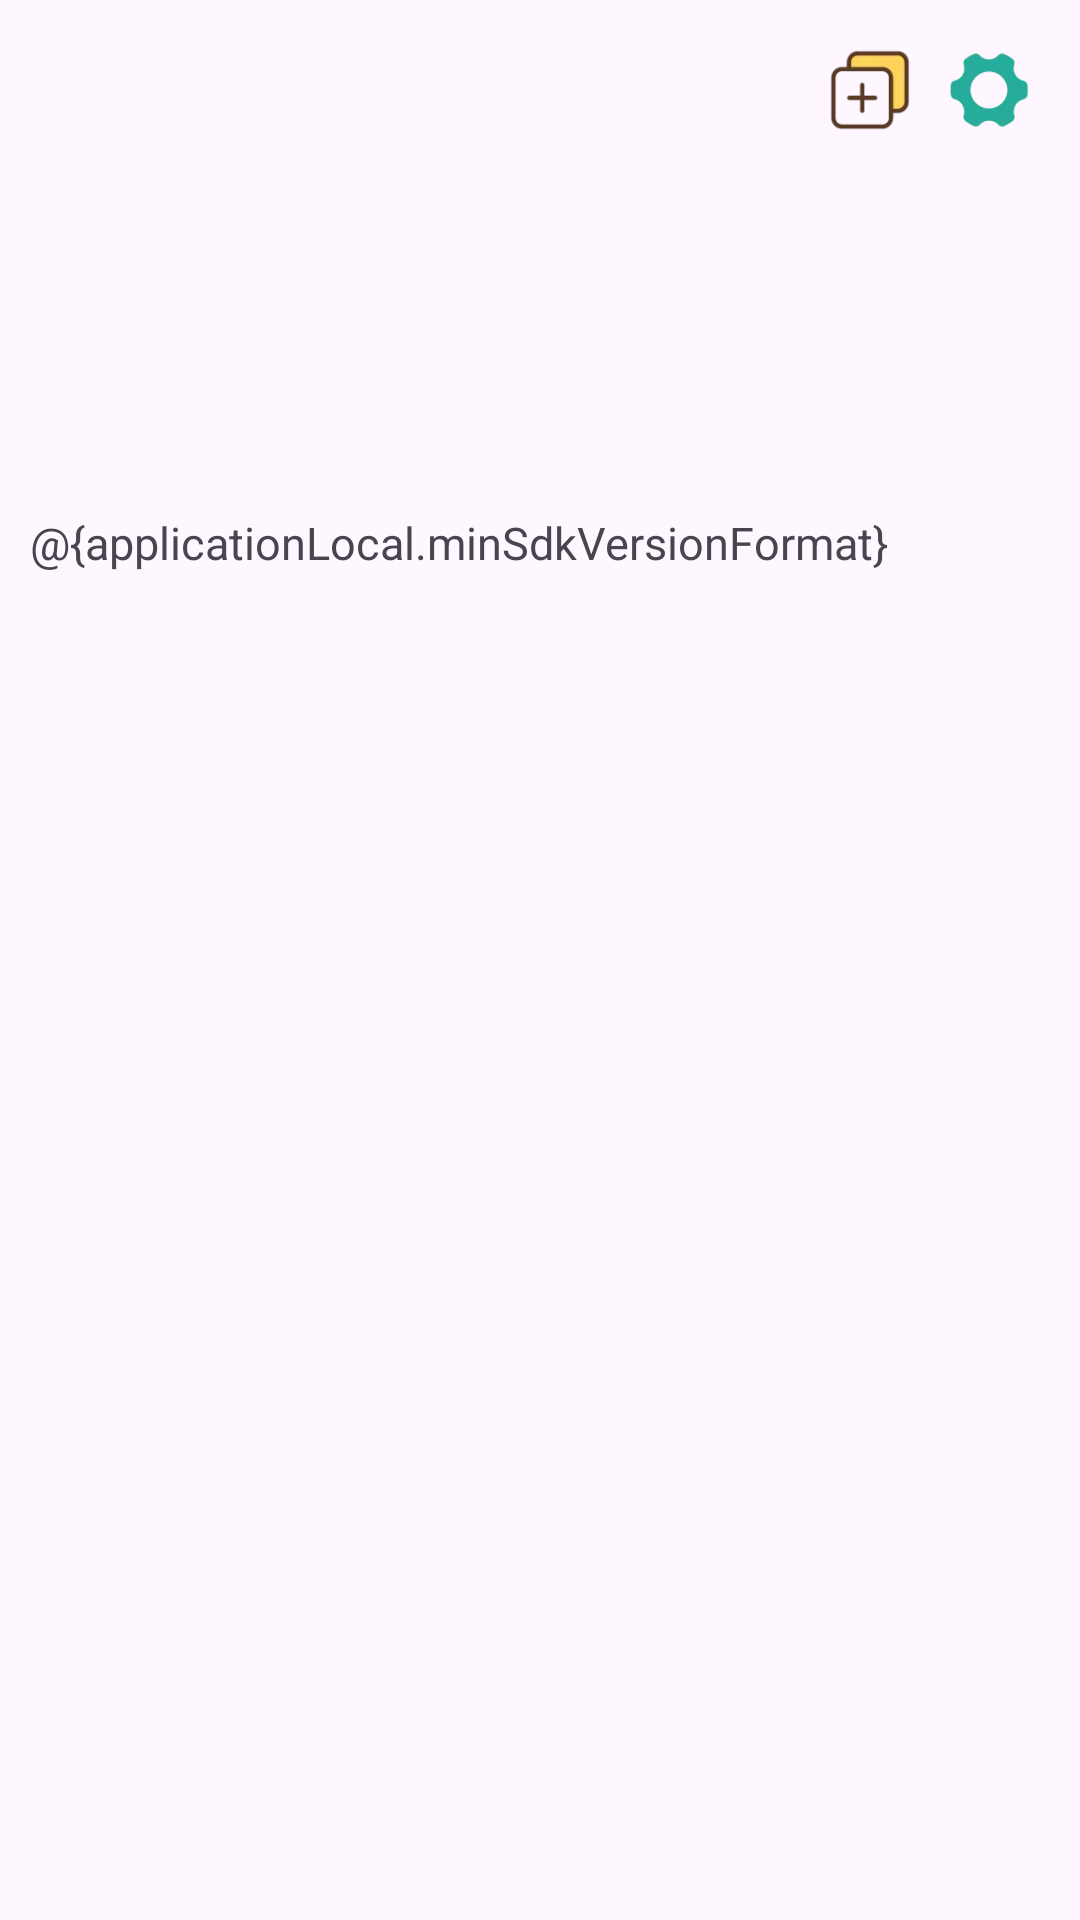

Named icons in this screenshot (1080 × 1920) and their centers, [x,y]:
settings: [989,90]
